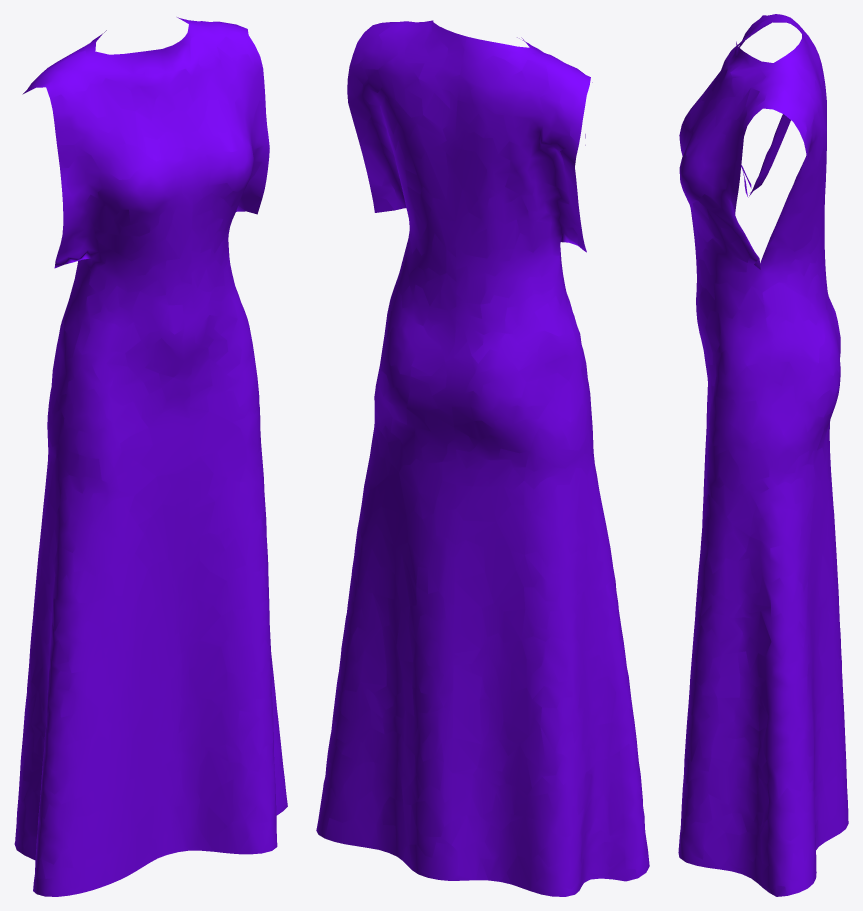
Rendered from dress1_model.glb.
3 renders of one model, left to right at view 1: azimuth 30°, elevation 25°; view 2: azimuth 150°, elevation 25°; view 3: azimuth 270°, elevation 25°, orthographic. The views are drawn at different scales.
Visible parts, largest first — view 1: sukienka2Mesh; view 2: sukienka2Mesh; view 3: sukienka2Mesh.
Boxes of the visible parts, bbox=[...] form: sukienka2Mesh: bbox=[14, 17, 287, 896]; sukienka2Mesh: bbox=[316, 20, 649, 896]; sukienka2Mesh: bbox=[678, 14, 848, 896].
Size of what is drawn, in the model's own units: 5.14 by 14.12 by 2.74.
